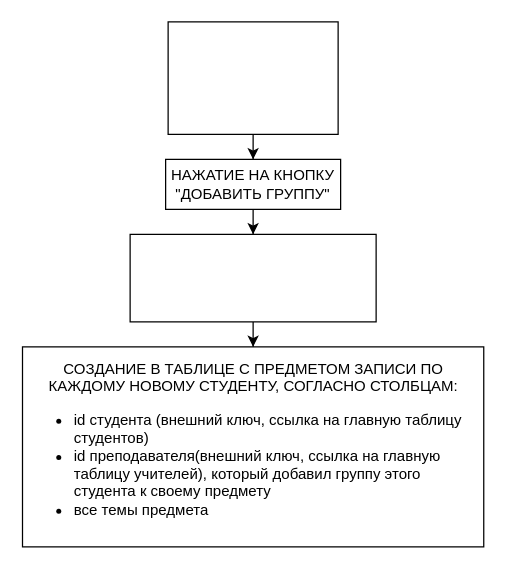
Some shapes in this 505 by 569 pixel diagram are drawn without their labels. The box of each missing label's shape, as (x1, y1, x2, y2) in pixels:
ВЫБОР ГРУППЫ И ПРЕДМЕТА К КОТОРОМУ СОБЕРАЮТСЯ ДОБАВИТЬ: (167, 21, 338, 134)
ПОИСК В ГЛАВНОЙ СТУДЕНЧЕСКОЙ ТАБЛИЦЕ ВСЕХ СТУДЕНТОВ С НУЖНОЙ ГРУППОЙ: (129, 233, 376, 322)
